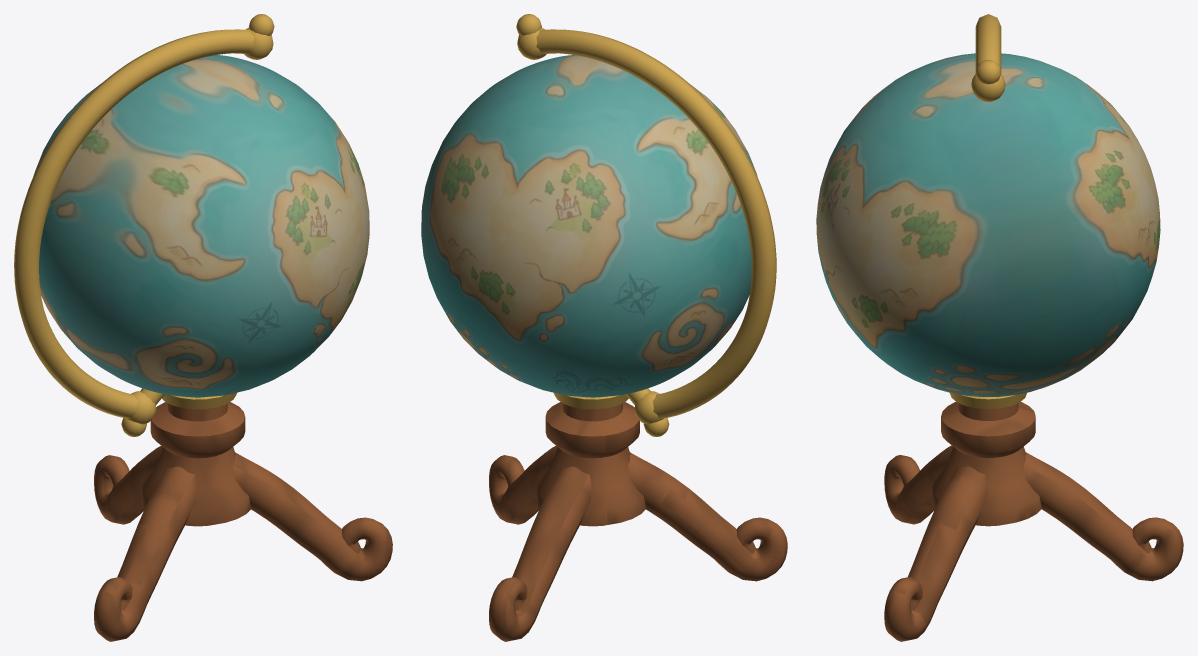
File: library_globe.glb
3 views of the same model, side by side, from view 1: azimuth 30°, elevation 25°; view 2: azimuth 150°, elevation 25°; view 3: azimuth 270°, elevation 25° (orthographic).
Parts seen in each view (by area): view 1: globe_sphere, globe_stand; view 2: globe_sphere, globe_stand; view 3: globe_sphere, globe_stand.
Boxes of the visible parts, box(x1,y1,x2,y2) form: globe_sphere: box(33, 55, 369, 397); globe_stand: box(14, 14, 392, 641); globe_sphere: box(421, 55, 757, 397); globe_stand: box(489, 14, 787, 641); globe_sphere: box(816, 53, 1160, 397); globe_stand: box(884, 14, 1183, 641).
Bounding box in the file's own units: 0.8824 × 1.4 × 0.8462.
Materials: 3 (2 with a texture image).
